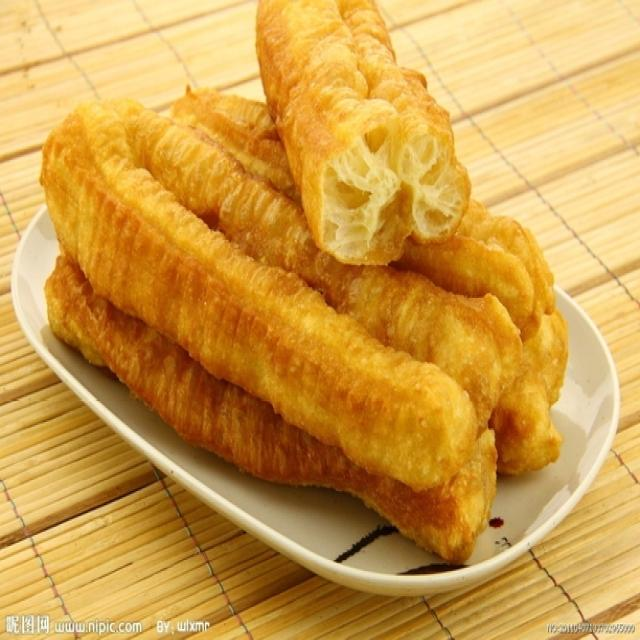炸货点心: (35, 18, 606, 592)
